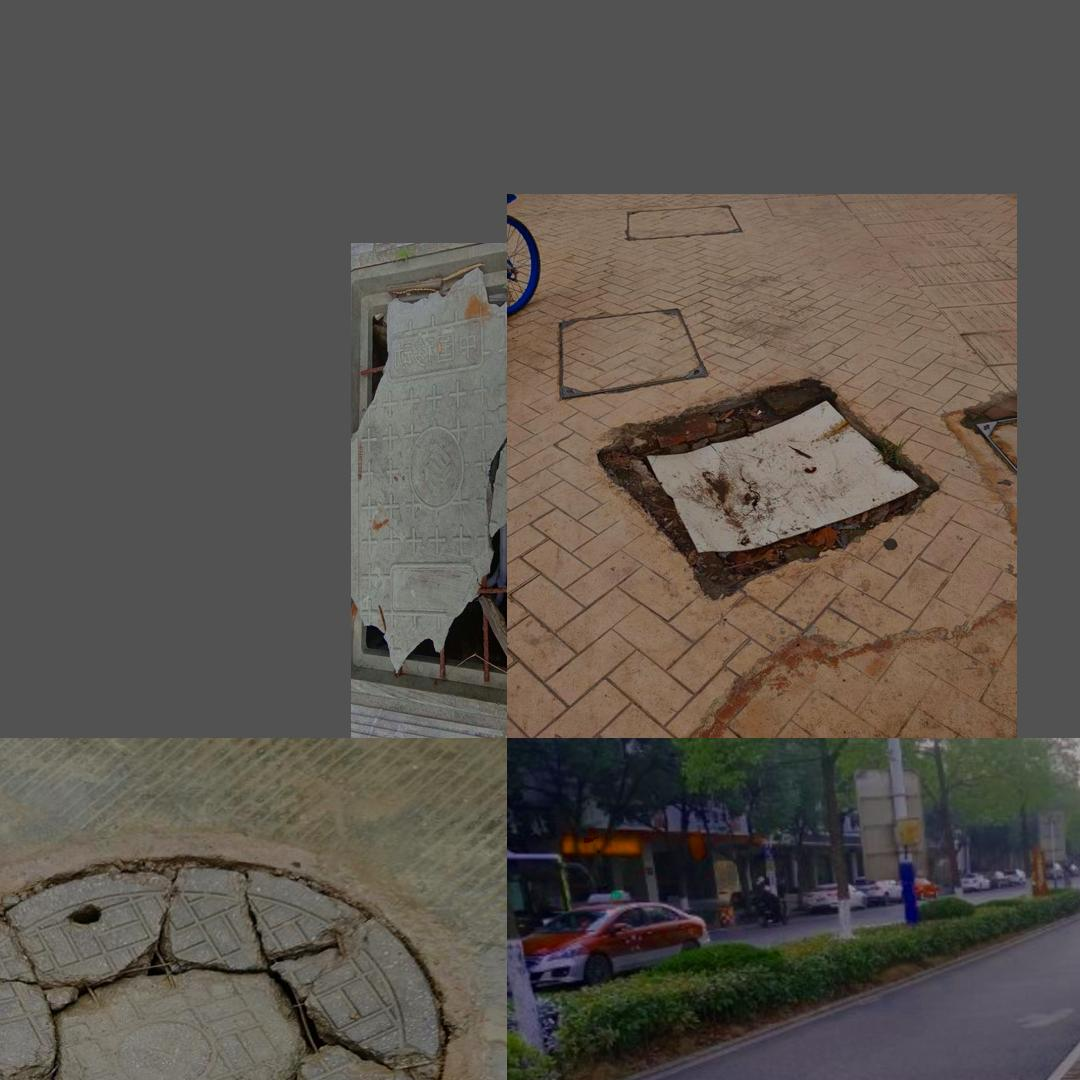broke: (0, 829, 474, 1080), (584, 362, 948, 615), (351, 251, 506, 710)
